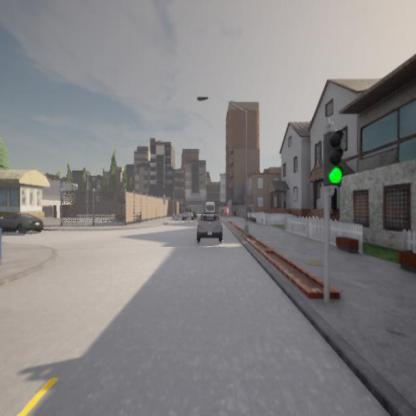traffic_light_green: (323, 127, 346, 186)
vehicle: (1, 213, 44, 235), (194, 212, 224, 241)
